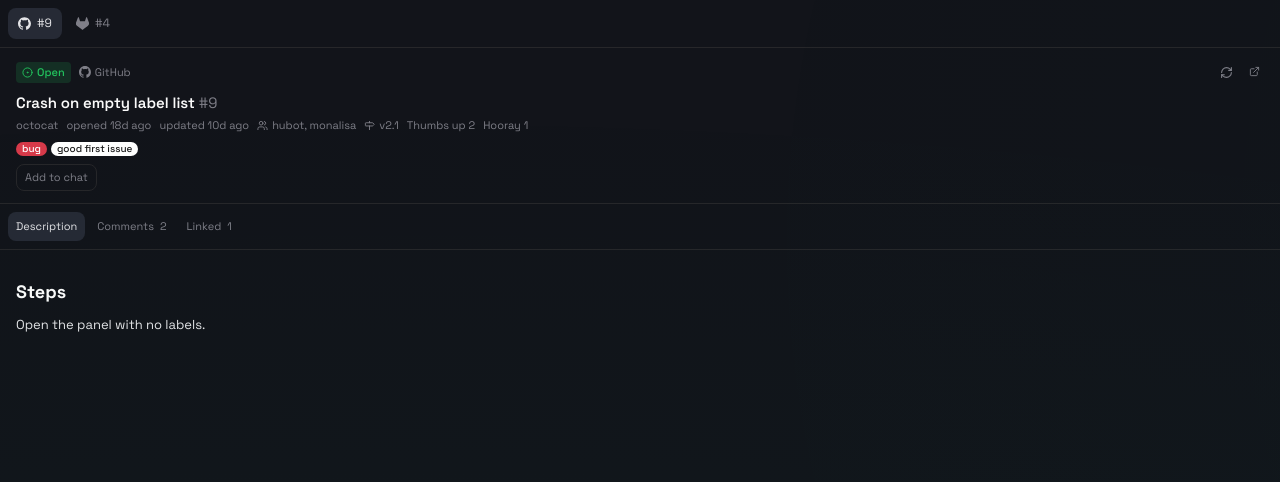
IssuePanel › shows description, comments, and linked changes across its tabs
Expected: the text "Open the panel with no labels." is shown, [16, 316, 205, 333]
Click the tab "Comments 2".
click(132, 227)  # box [89, 212, 175, 241]
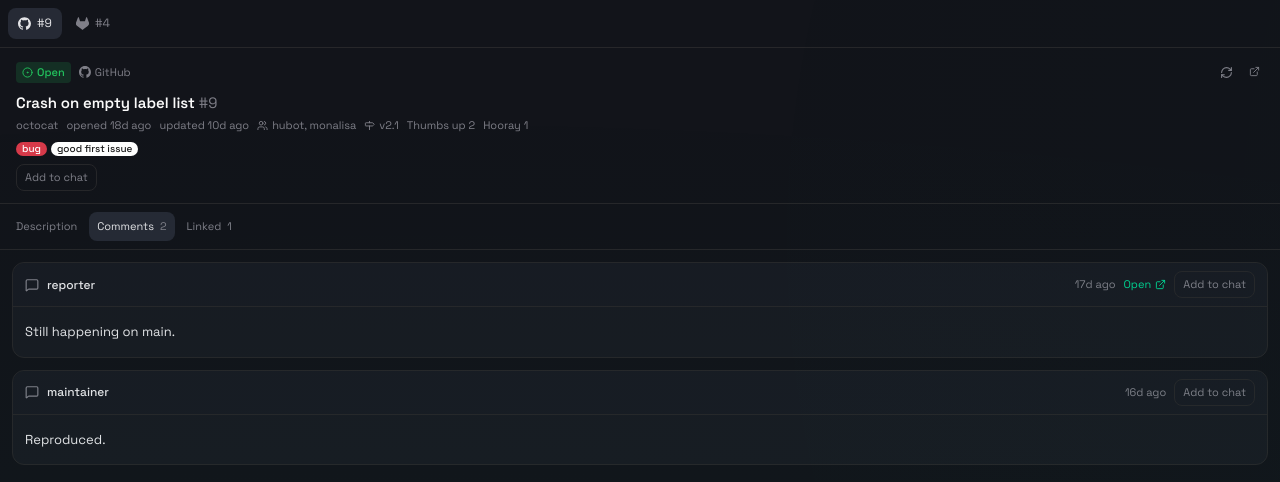
Expected: the text "Still happening on main." is shown, [25, 324, 175, 340]
Expected: the text "Reproduced." is shown, [25, 431, 105, 448]
Click the tab "Linked 1".
click(209, 227)  # box [179, 212, 240, 241]
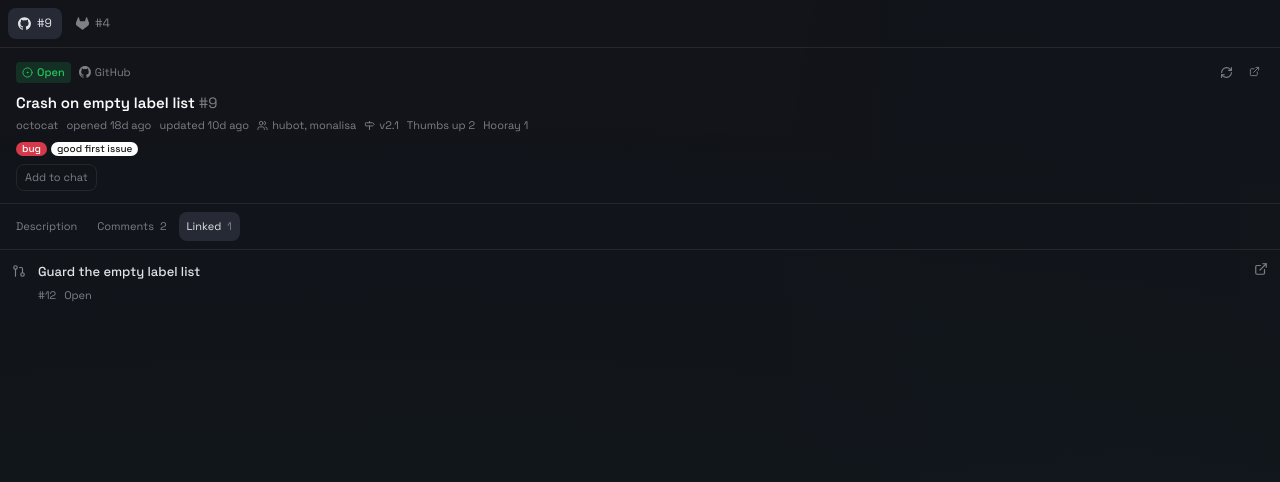
Expected: the text "Guard the empty label list" is shown, [38, 263, 200, 280]
Expected: the text "#12" is shown, [38, 286, 56, 304]
